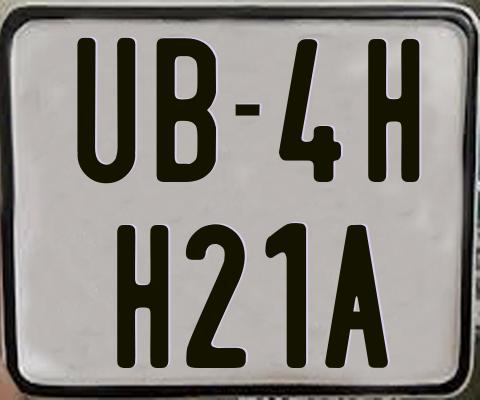1: (264, 221, 308, 371)
2: (183, 223, 248, 369)
4: (278, 36, 346, 184)
A: (324, 224, 390, 371)
B: (153, 35, 216, 180)
H: (114, 223, 170, 371), (366, 38, 419, 185)
U: (76, 37, 137, 183)
